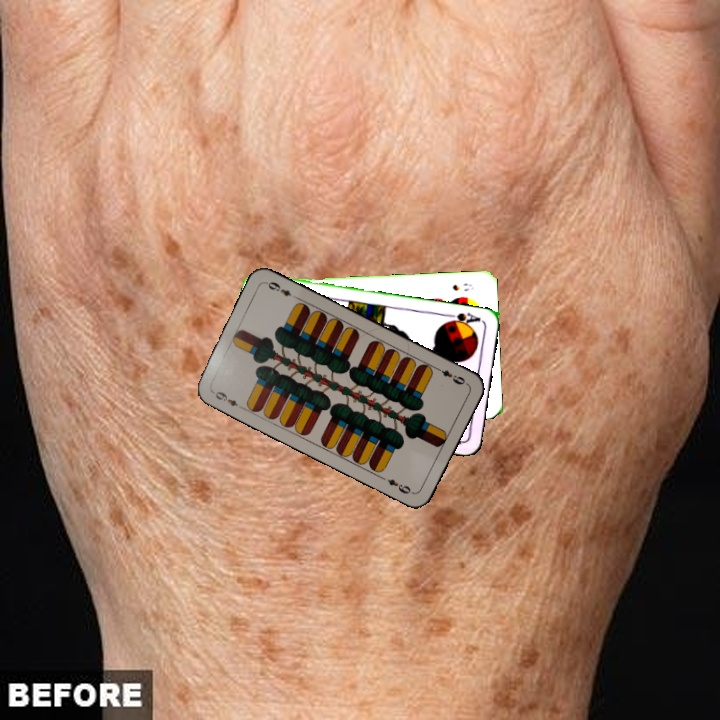E9: (431, 363, 469, 387), (208, 387, 246, 411)
S8: (448, 279, 476, 294)
SA: (442, 309, 483, 329)
